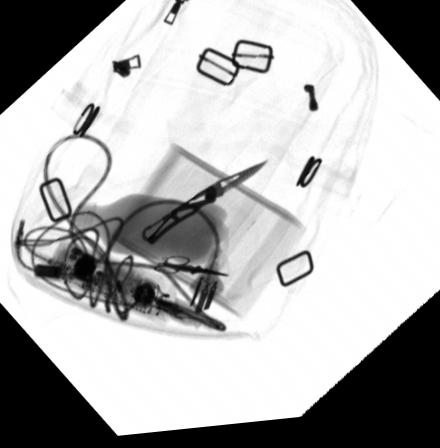Knife: (142, 164, 269, 248)
Scissors: (150, 257, 231, 281)
